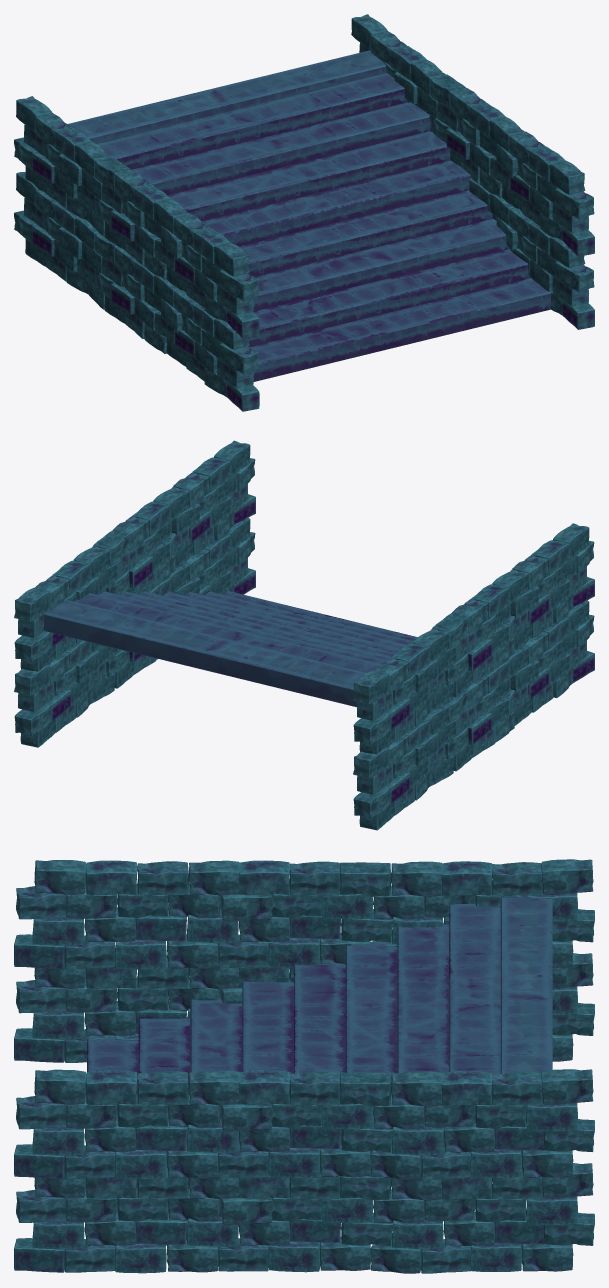
Rendered from Staircase.fbx.
The picture shows the model from 3 angles, top to bottom: view 1: azimuth 30°, elevation 25°; view 2: azimuth 150°, elevation 25°; view 3: azimuth 270°, elevation 25°; orthographic projection. The views are drawn at different scales.
Visible parts, largest first — view 1: SM_Staircase; view 2: SM_Staircase; view 3: SM_Staircase.
Boxes of the visible parts, x1=… form: SM_Staircase: x1=14, y1=14, x2=594, y2=411; SM_Staircase: x1=14, y1=440, x2=594, y2=830; SM_Staircase: x1=14, y1=859, x2=594, y2=1273.
Bounding box in the file's own units: 520 × 206 × 562.
Materials: 4 (4 with a texture image).
